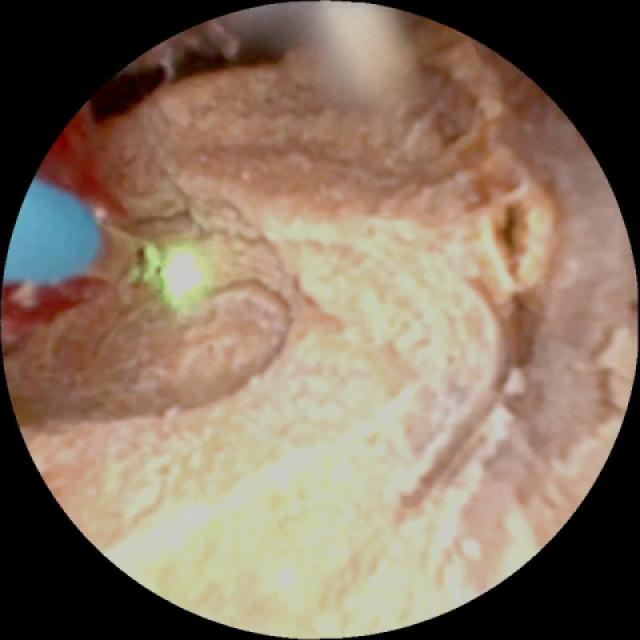fiber: (10, 182, 99, 283)
stone: (11, 19, 615, 630)
